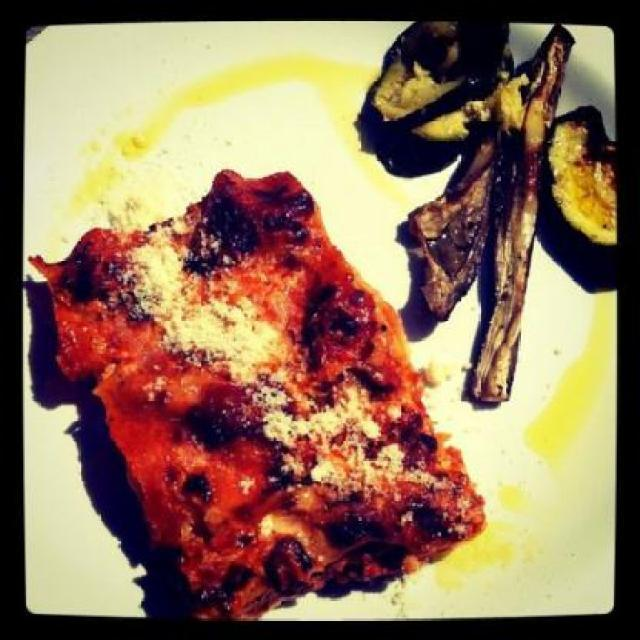Lasagna: (34, 178, 452, 602)
